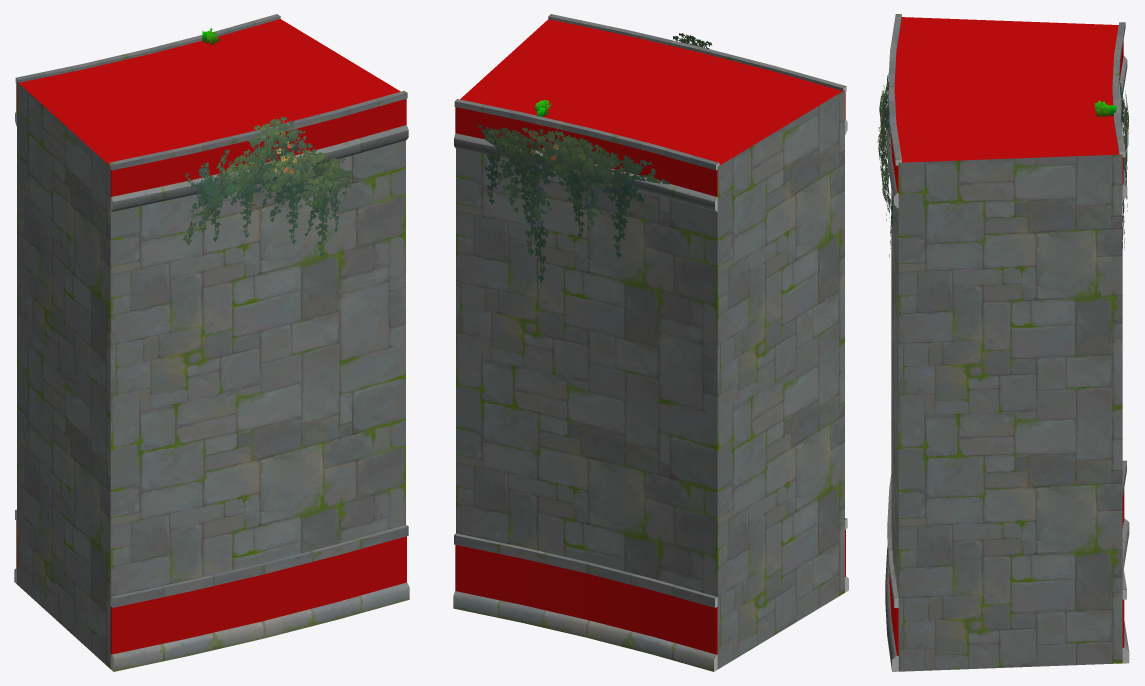
File: Area_MdBuild_SdWall02_22_Group.fbx
The picture shows the model from 3 angles, left to right: view 1: azimuth 30°, elevation 25°; view 2: azimuth 150°, elevation 25°; view 3: azimuth 270°, elevation 25°; orthographic projection.
Visible parts, largest first — view 1: Area_MdBuild_SdWall02_22_Lod0, Stages_LYLvy06_Vo (1), Stages_LYLvy09_Vo (1); view 2: Area_MdBuild_SdWall02_22_Lod0, Stages_LYLvy02_Vo (1); view 3: Area_MdBuild_SdWall02_22_Lod0, Stages_LYLvy06_Vo (1), Stages_LYLvy02_Vo (1).
Boxes of the visible parts, x1=… form: Area_MdBuild_SdWall02_22_Lod0: x1=14, y1=14, x2=409, y2=671; Stages_LYLvy06_Vo (1): x1=206, y1=116, x2=352, y2=256; Stages_LYLvy09_Vo (1): x1=182, y1=149, x2=234, y2=244; Area_MdBuild_SdWall02_22_Lod0: x1=453, y1=14, x2=848, y2=671; Stages_LYLvy02_Vo (1): x1=478, y1=124, x2=669, y2=282; Area_MdBuild_SdWall02_22_Lod0: x1=885, y1=14, x2=1129, y2=671; Stages_LYLvy06_Vo (1): x1=877, y1=76, x2=893, y2=257; Stages_LYLvy02_Vo (1): x1=1119, y1=72, x2=1128, y2=249.
Bounding box in the file's own units: 12.35 × 20.63 × 9.03.
